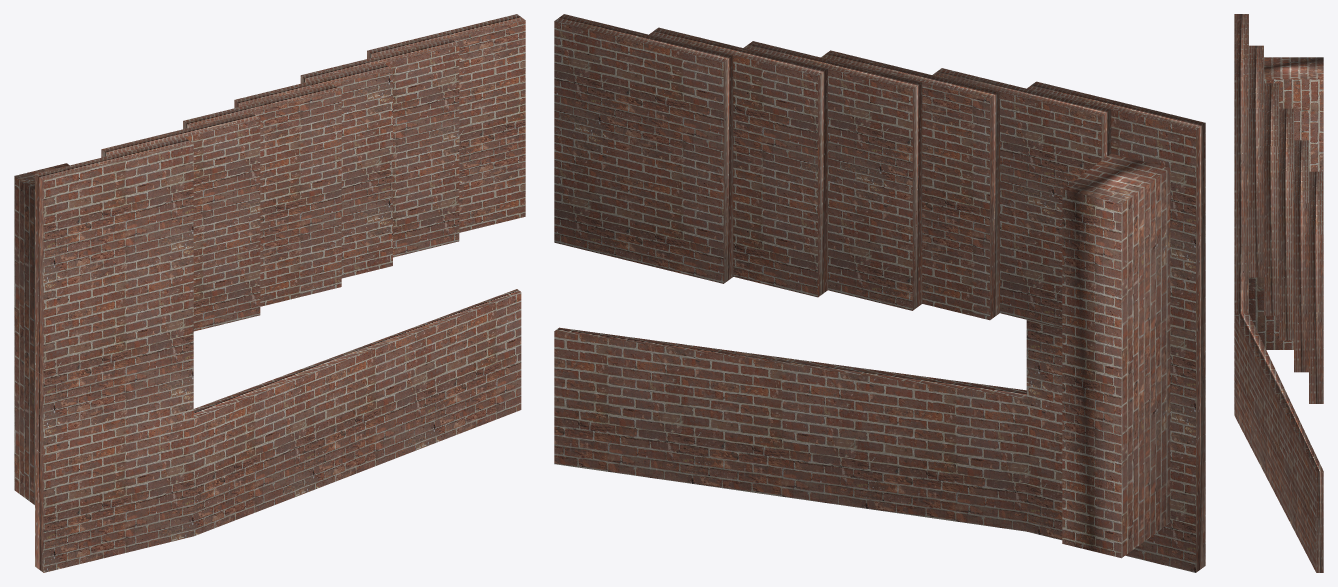
The model's file is ramp.DAE.
The picture shows the model from 3 angles, left to right: view 1: azimuth 30°, elevation 25°; view 2: azimuth 150°, elevation 25°; view 3: azimuth 270°, elevation 25°; orthographic projection. The views are drawn at different scales.
Visible parts, largest first — view 1: adventureplaygound01a; view 2: adventureplaygound01a; view 3: adventureplaygound01a.
Part boxes in pixels (<box>): adventureplaygound01a: <box>14,14,525,572</box>; adventureplaygound01a: <box>554,14,1205,572</box>; adventureplaygound01a: <box>1234,14,1323,572</box>.
Bounding box in the file's own units: 276 × 197 × 47.24.
